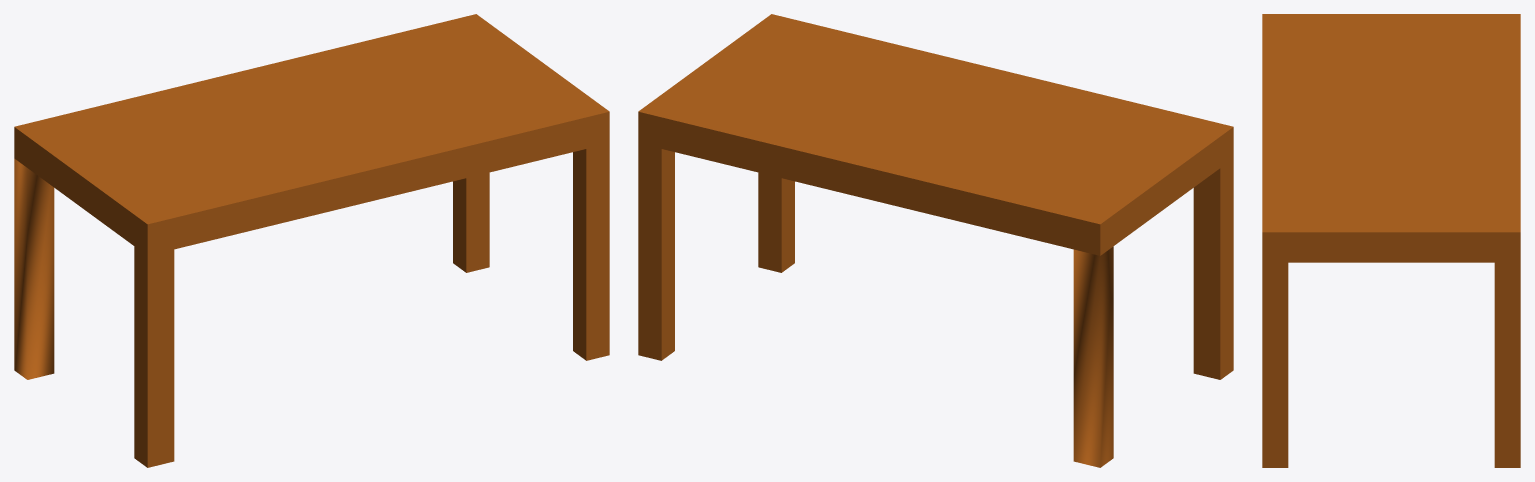
The model's file is table_2x1.glb.
The picture shows the model from 3 angles, left to right: view 1: azimuth 30°, elevation 25°; view 2: azimuth 150°, elevation 25°; view 3: azimuth 270°, elevation 25°; orthographic projection. The views are drawn at different scales.
Visible parts, largest first — view 1: table_2x1; view 2: table_2x1; view 3: table_2x1.
Boxes of the visible parts, box(x1,y1,x2,y2) form: table_2x1: box(14, 14, 609, 467); table_2x1: box(638, 14, 1233, 467); table_2x1: box(1262, 14, 1520, 467).
Bounding box in the file's own units: 1.57 × 0.7918 × 0.7861.
